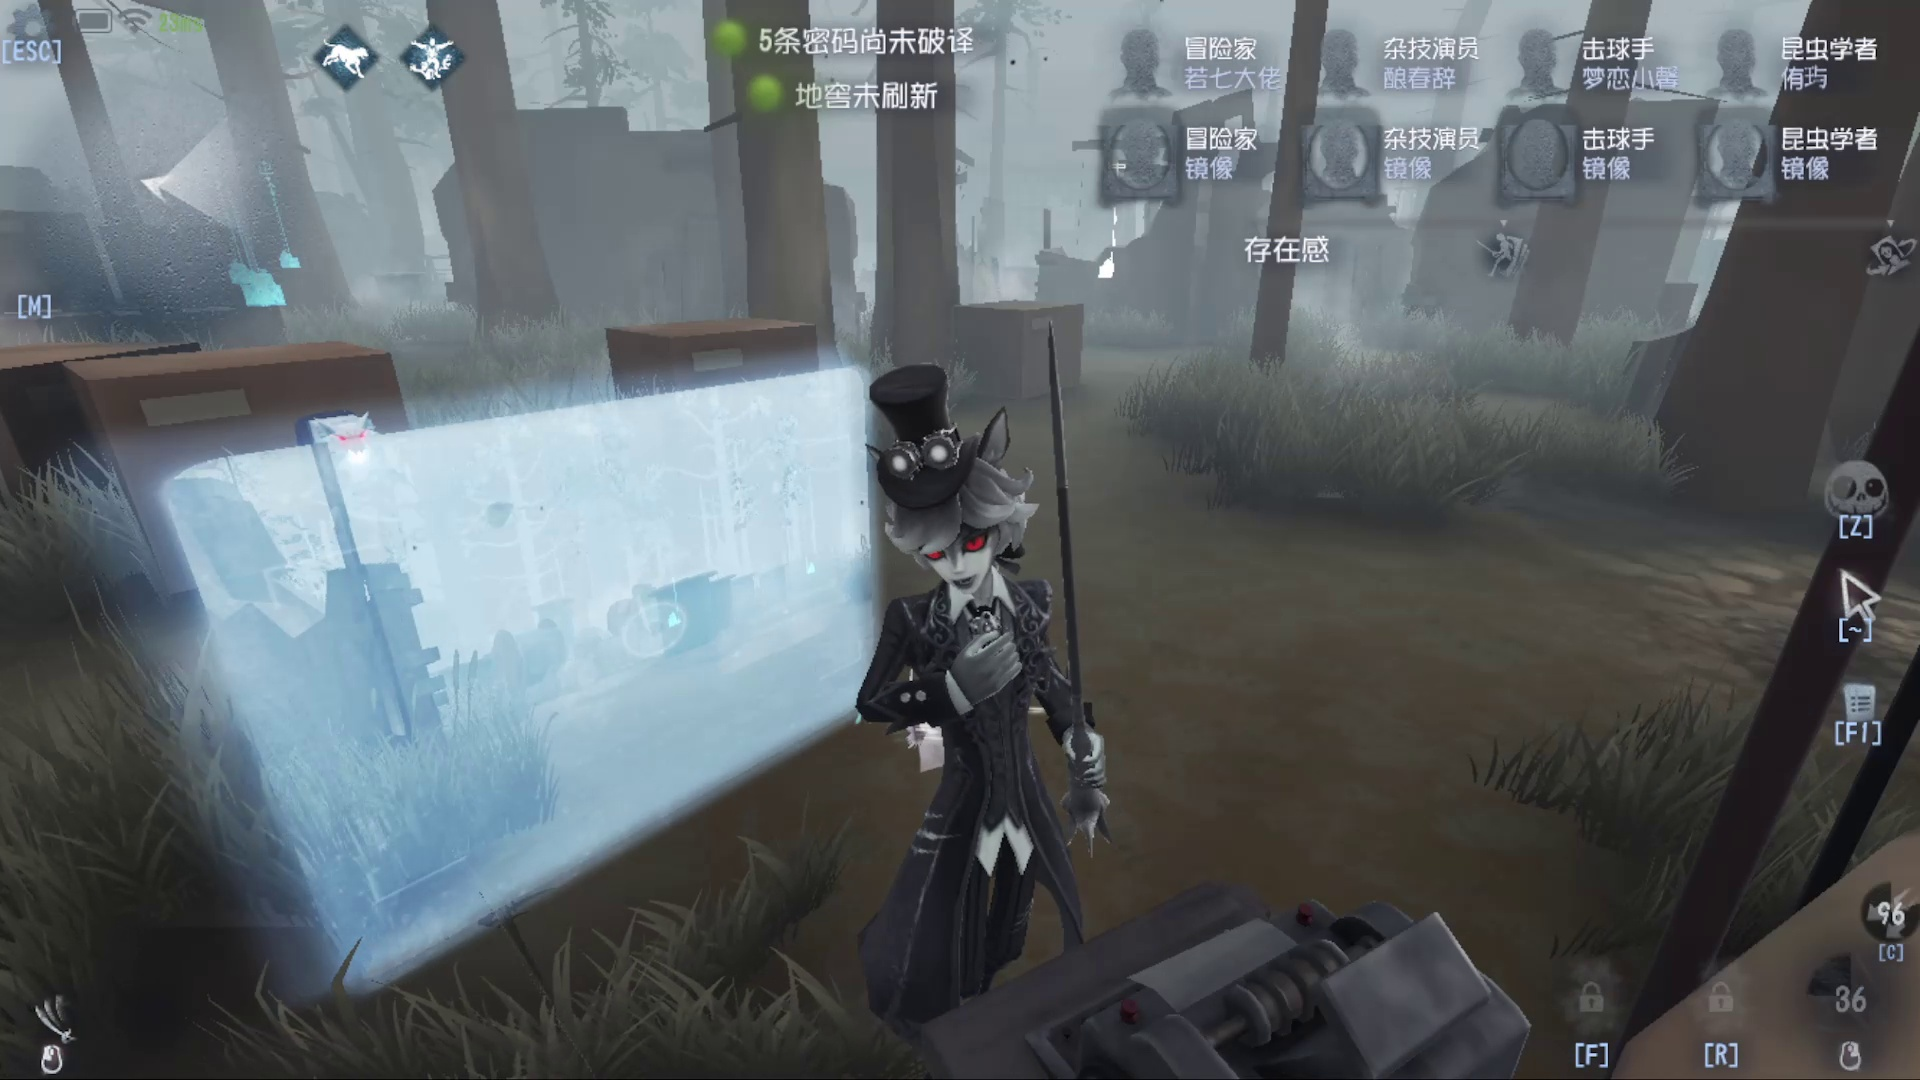密码机: (207, 146, 340, 327)
